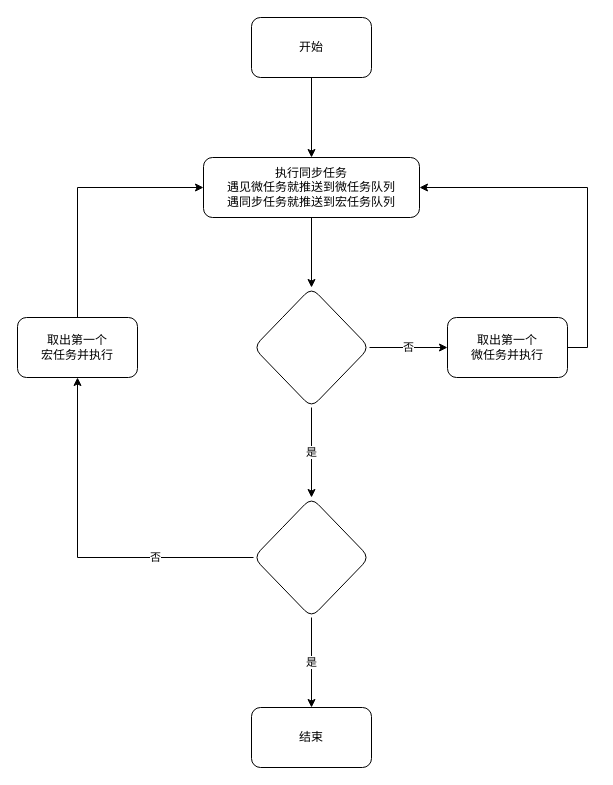
Image size: 613x785. Some labels were removed from this diagram. Here are the shapes that lost their labels. From the top down, the centre of each, then its label:
At point (311, 347): "判断微任务队列 是否为空".
At point (311, 557): "判断宏任务队列 是否为空".
